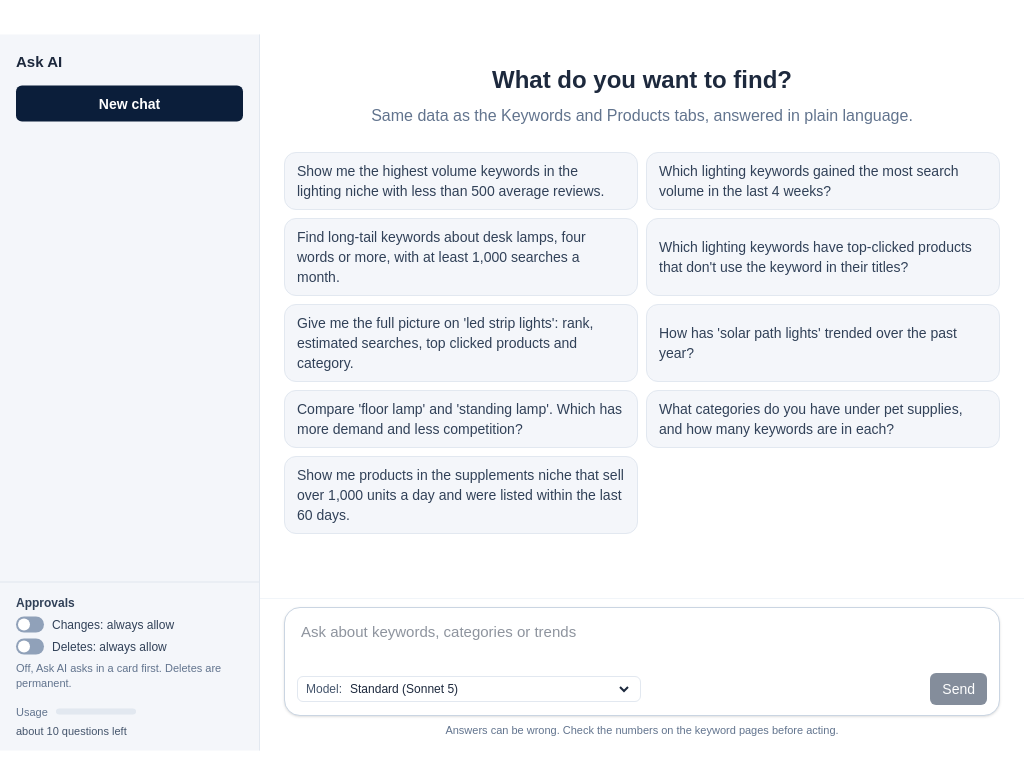
Test: AskAi › the two "always allow" switches (spec 2026-10-01 §8) › a click on a switch goes through AskAi's state: it shows at once, then the answer (the row) lands
Click the checkbox labelled "Changes: always allow". click: (95, 624)
box: [16,616,174,632]
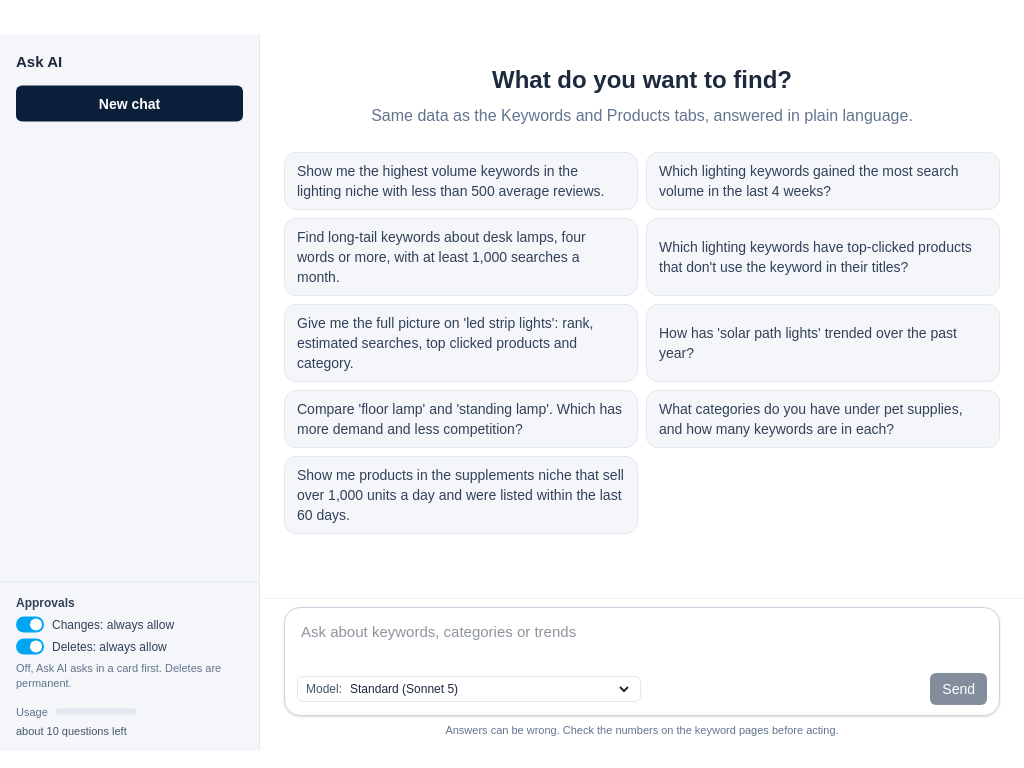
Check: the checkbox labelled "Changes: always allow" is checked, box [16,616,174,632]
Check: the checkbox labelled "Deletes: always allow" is checked, box [16,638,167,654]
